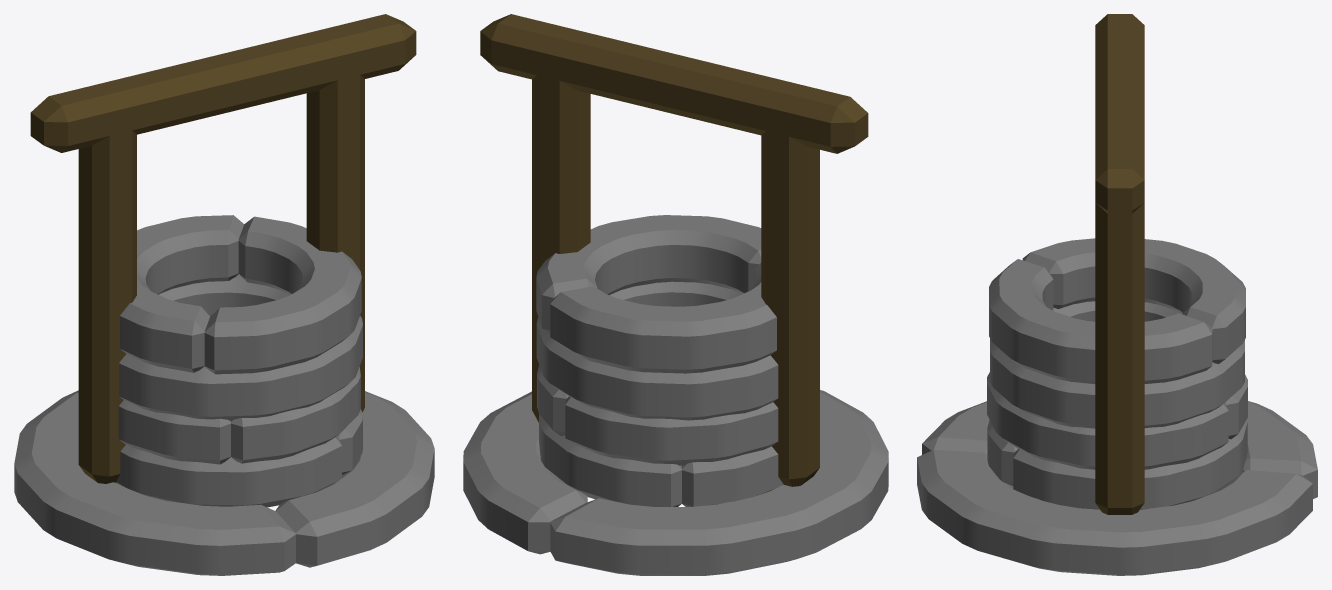
Rendered from Well.fbx.
3 views of the same model, side by side, from view 1: azimuth 30°, elevation 25°; view 2: azimuth 150°, elevation 25°; view 3: azimuth 270°, elevation 25° (orthographic). The views are drawn at different scales.
Visible parts, largest first — view 1: polySurface10712; view 2: polySurface10712; view 3: polySurface10712.
Part boxes in pixels (x1,y1,x2,y2): polySurface10712: (14, 14, 434, 575); polySurface10712: (463, 14, 888, 575); polySurface10712: (917, 14, 1317, 575).
Size of the model in its own units: 1.4 by 1.55 by 1.38.
